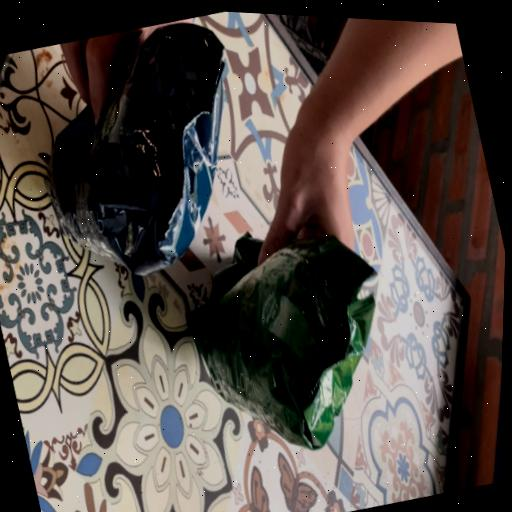cafe_hat: (48, 23, 223, 275)
cafe_xay: (188, 235, 374, 450)
